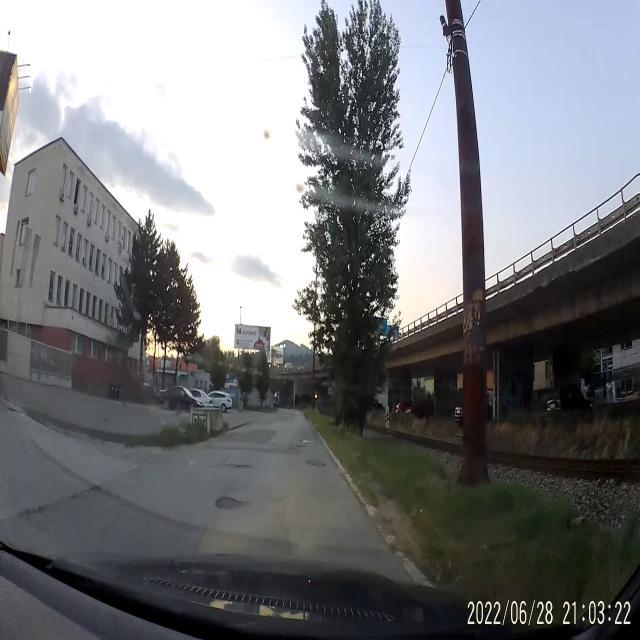Pothole: (212, 492, 246, 514), (304, 458, 326, 472), (226, 462, 254, 471)
